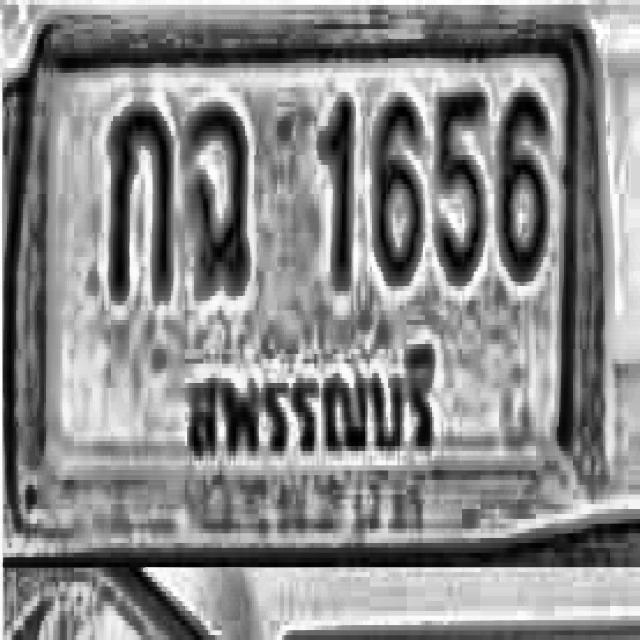license-plate: (12, 2, 607, 564)
